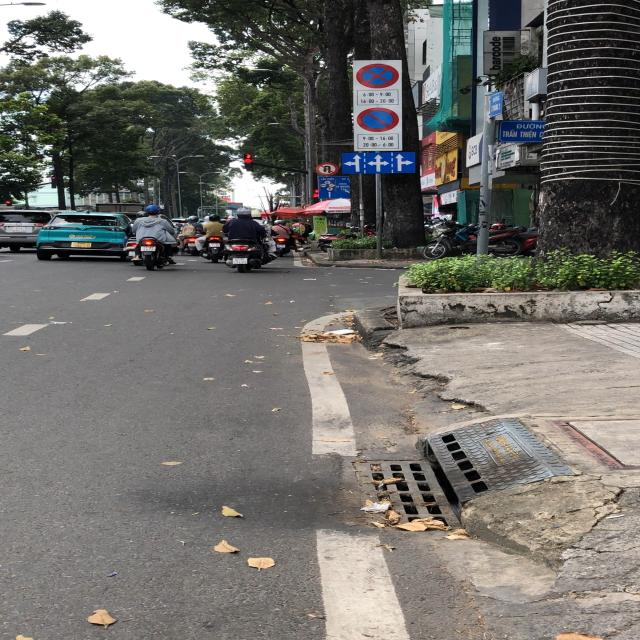Bien bao cam do xe: (356, 105, 400, 134)
Bien bao cam dung xe va do xe: (351, 60, 408, 90)
Bien bao cam quay dau xe: (316, 160, 338, 176)
